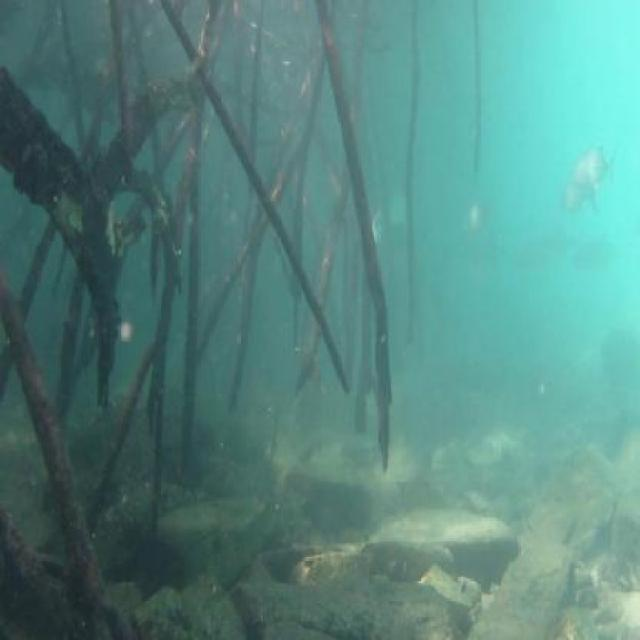Caranx_sexfasciatus_juvenile: (574, 229, 626, 286), (555, 171, 596, 226), (463, 190, 502, 247), (570, 150, 619, 195)
